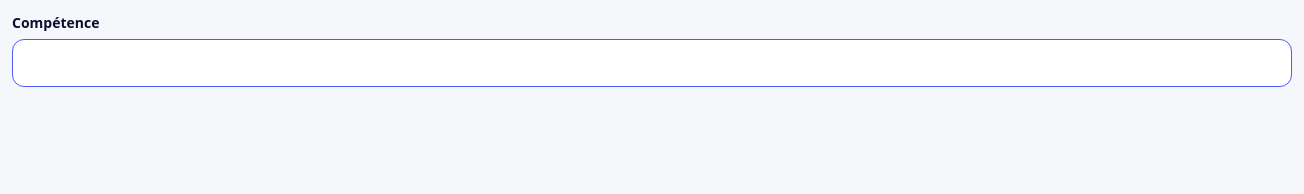
Test: Suggest › ignores accents and punctuation when matching
Later steps or results of the test are not shown.
Type "electri" into the dropdown.
click(652, 63); type("electri")  # box [12,39,1292,87]
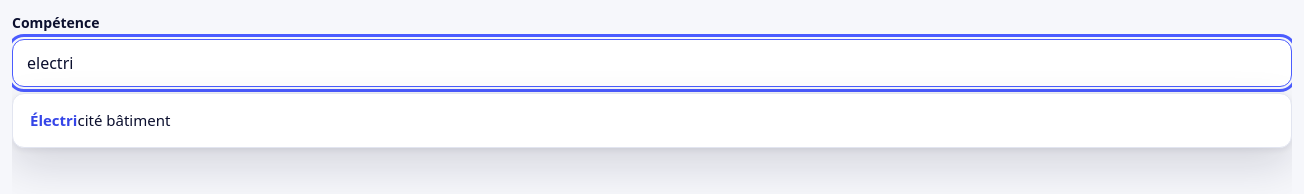
expect the option reads "Électricité bâtiment": met, box [30,110,170,130]
